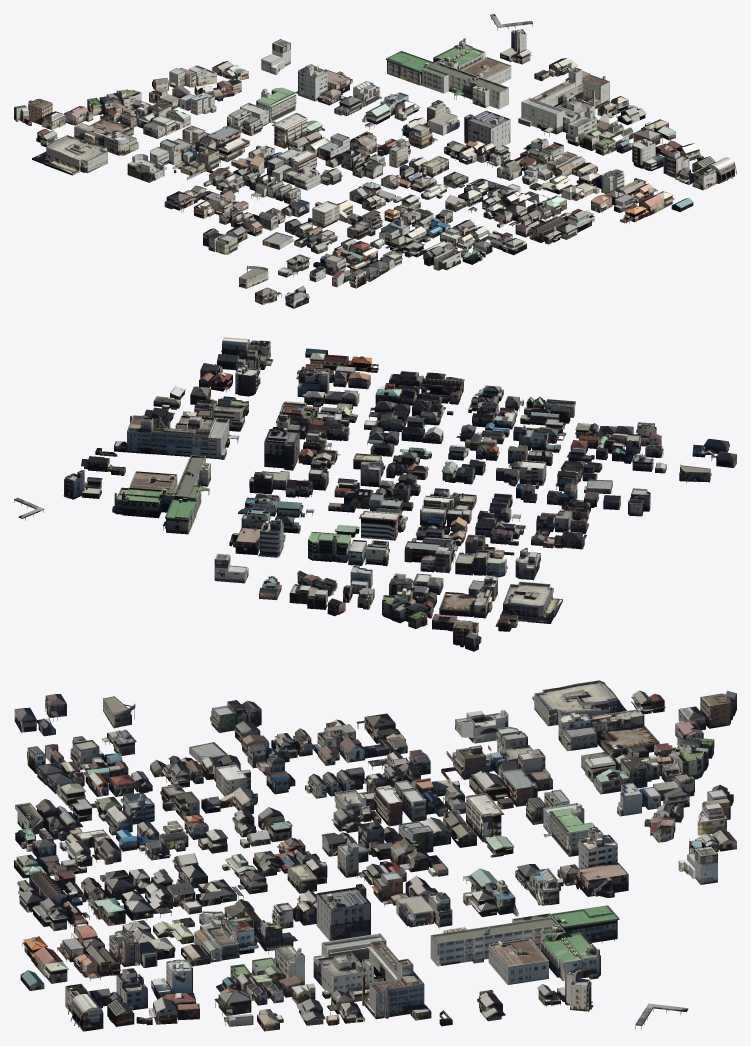
Rendered from lod3-station-4-2-packed.glb.
The picture shows the model from 3 angles, top to bottom: view 1: azimuth 30°, elevation 25°; view 2: azimuth 150°, elevation 25°; view 3: azimuth 270°, elevation 25°; orthographic projection. The views are drawn at different scales.
Size of the model in its own units: 388 by 23.64 by 347.
47 materials, 46 textured.
